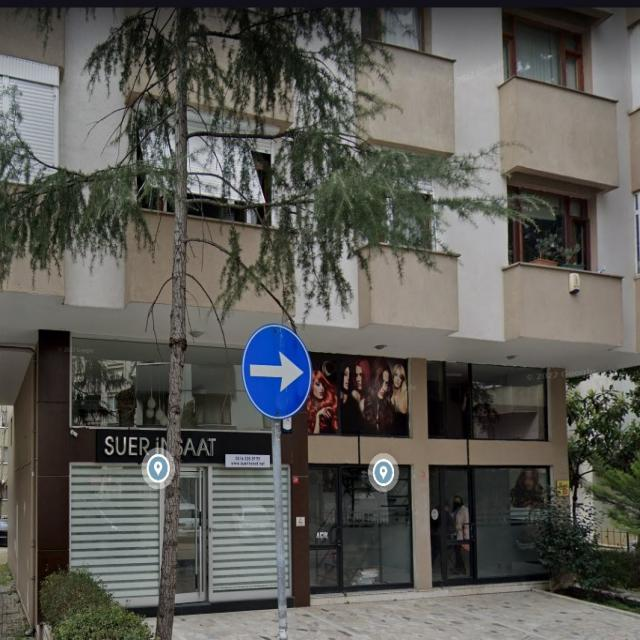Turn Right: (244, 320, 317, 421)
